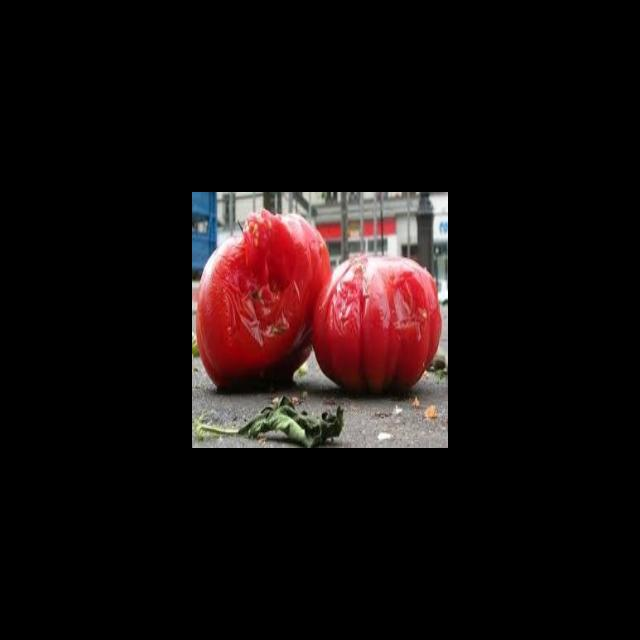tomato: (194, 203, 322, 388), (322, 246, 444, 407)
